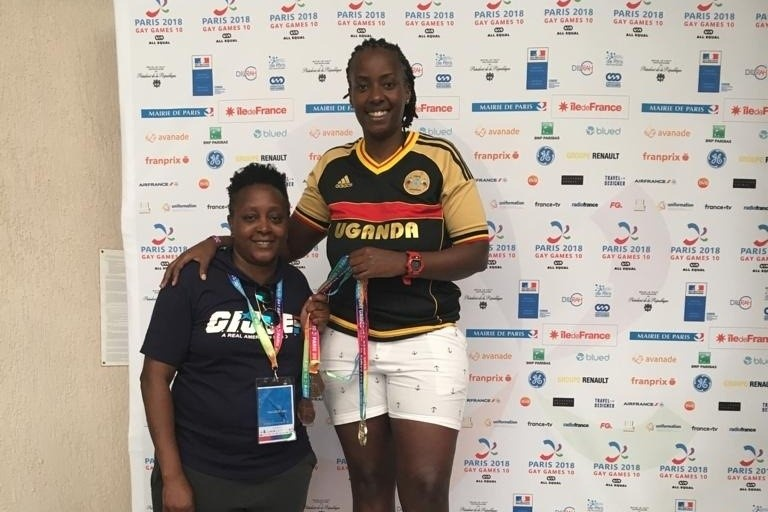face_no_mask: (347, 37, 412, 139), (227, 175, 289, 265)
